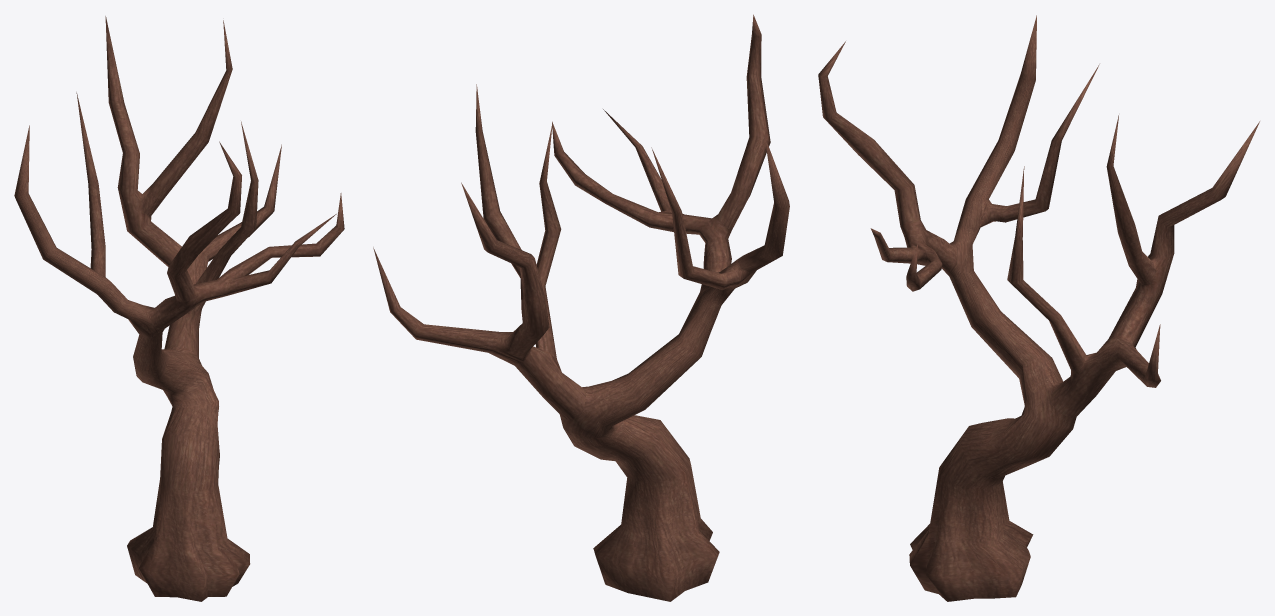
Rendered from trees_bark_002.obj.
3 views of the same model, side by side, from view 1: azimuth 30°, elevation 25°; view 2: azimuth 150°, elevation 25°; view 3: azimuth 270°, elevation 25° (orthographic). The views are drawn at different scales.
Visible parts, largest first — view 1: treebrown_002; view 2: treebrown_002; view 3: treebrown_002.
Part boxes in pixels (box(x1,y1,x2,y2)): treebrown_002: box(14, 16, 344, 601); treebrown_002: box(373, 14, 789, 601); treebrown_002: box(818, 15, 1259, 601).
Bounding box in the file's own units: 5.8 × 8.3 × 6.32.
Materials: 1 (1 with a texture image).
